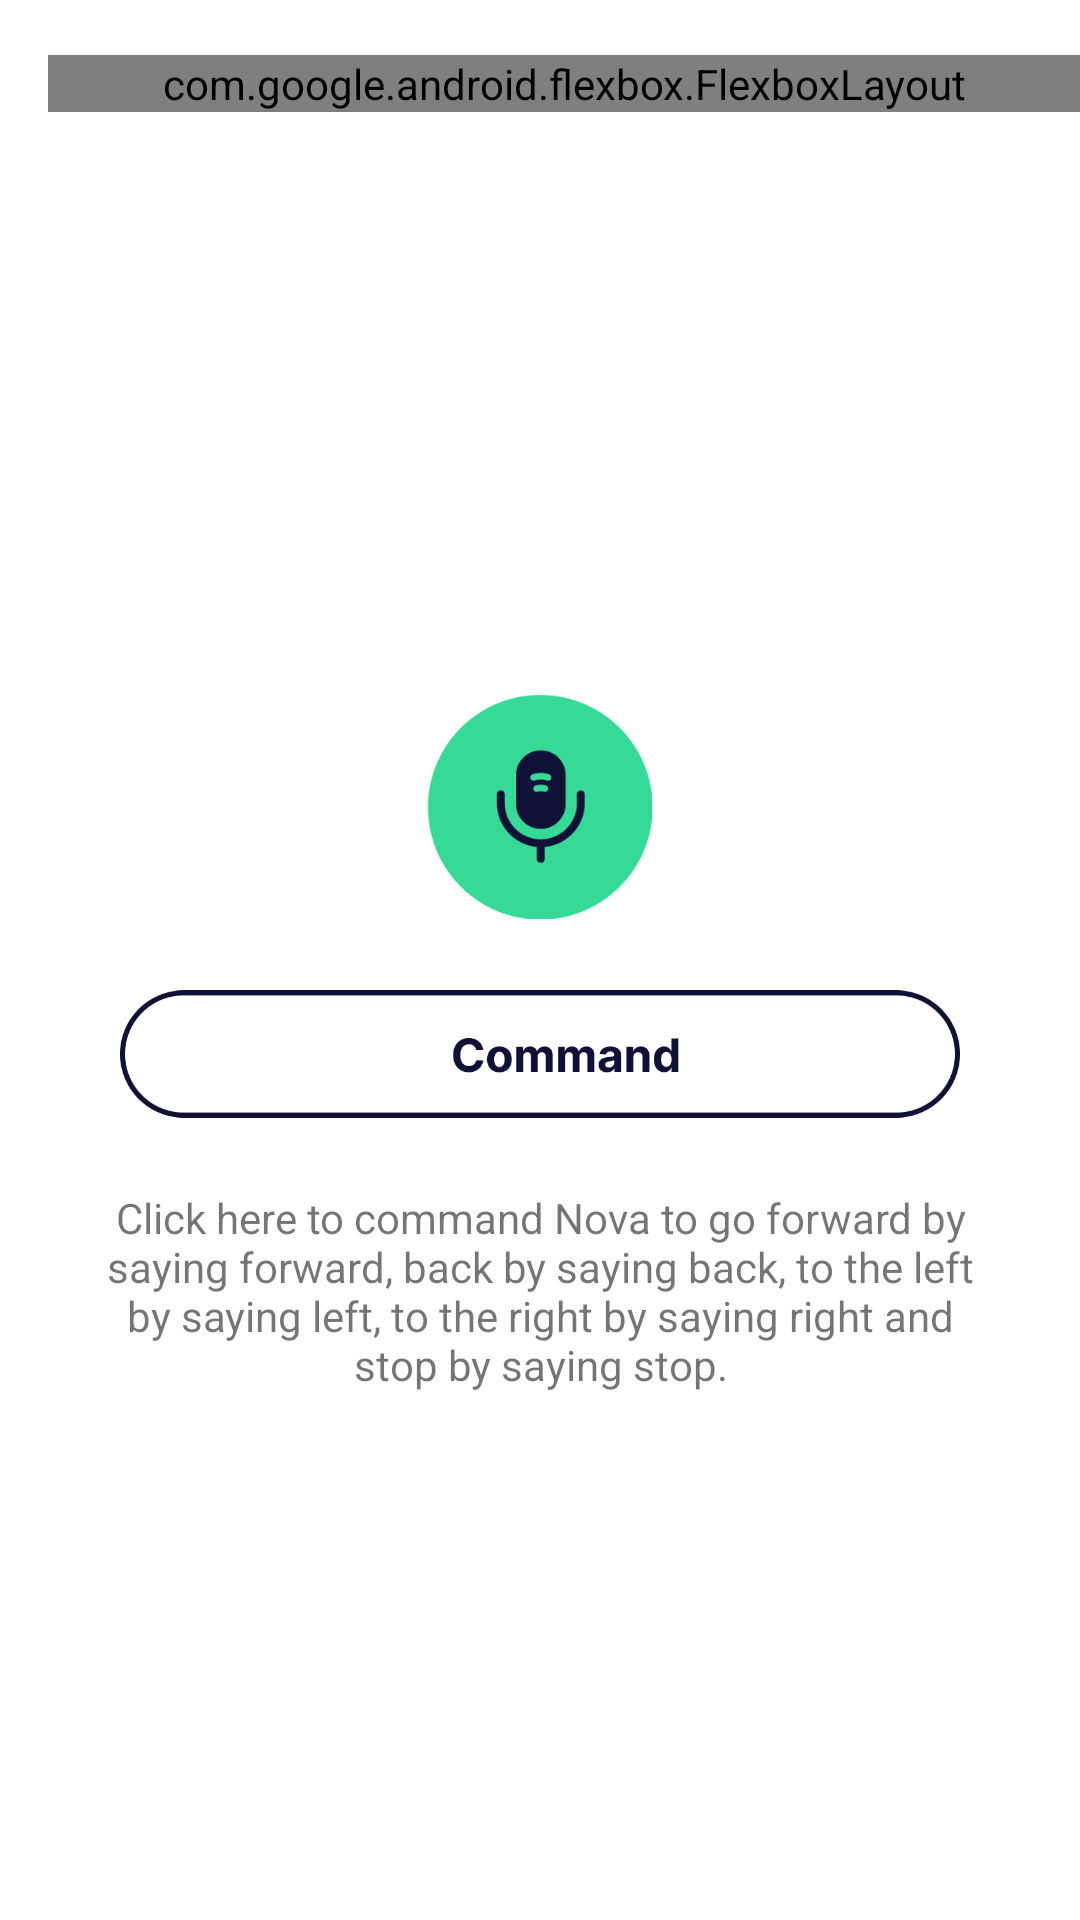

Screen size 1080w x 1920h. Icon name, then its box in pixels as (x1, y1, x2, y2):
voice chat: (428, 695, 652, 919)
